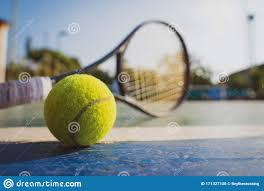tennis_ball: (44, 73, 117, 150)
